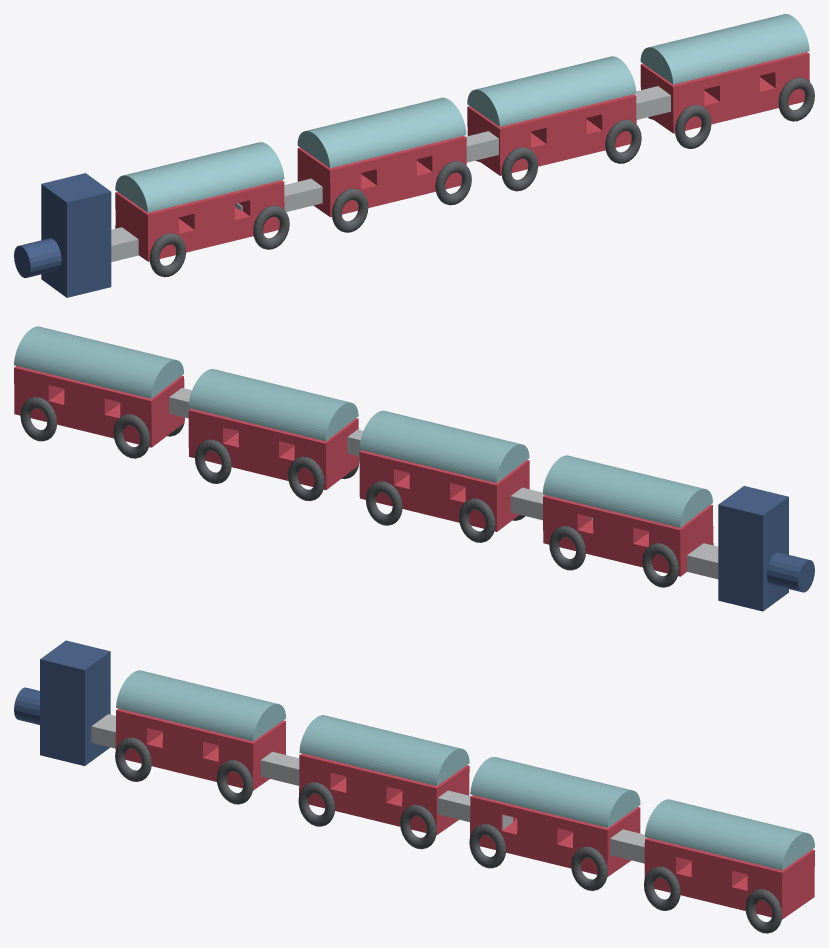
File: Swanky Robo.glb
The picture shows the model from 3 angles, top to bottom: view 1: azimuth 30°, elevation 25°; view 2: azimuth 150°, elevation 25°; view 3: azimuth 330°, elevation 25°; orthographic projection.
Parts seen in each view (by area): view 1: Mesh_Mesh_head_geo.001_lambert2SG.001; view 2: Mesh_Mesh_head_geo.001_lambert2SG.001; view 3: Mesh_Mesh_head_geo.001_lambert2SG.001.
Boxes of the visible parts, x1,y1,x2,y2 form: Mesh_Mesh_head_geo.001_lambert2SG.001: (14, 14, 814, 297); Mesh_Mesh_head_geo.001_lambert2SG.001: (14, 326, 814, 611); Mesh_Mesh_head_geo.001_lambert2SG.001: (14, 640, 814, 933).
Bounding box in the file's own units: 348 × 41 × 32.5.
